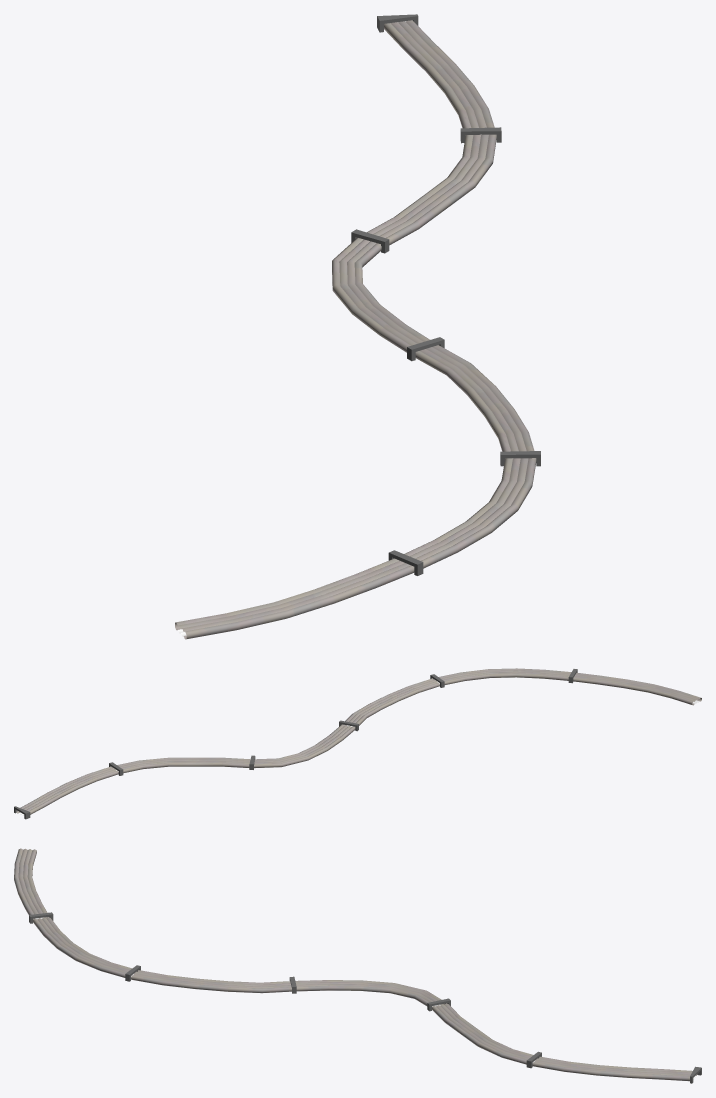
The model's file is Test_Rope2__5.fbx.
The picture shows the model from 3 angles, top to bottom: view 1: azimuth 30°, elevation 25°; view 2: azimuth 150°, elevation 25°; view 3: azimuth 270°, elevation 25°; orthographic projection. The views are drawn at different scales.
Parts seen in each view (by area): view 1: Mat_Tile_Color_07 1, Mat_Tile_Color_07 2, Mat_Tile_Color_07 3, Mat_Tile_Color_01 1; view 2: Mat_Tile_Color_07 1, Mat_Tile_Color_07 2, Mat_Tile_Color_07 3, Mat_Tile_Color_01 1; view 3: Mat_Tile_Color_07 1, Mat_Tile_Color_07 2, Mat_Tile_Color_07 3, Mat_Tile_Color_01 1.
Part boxes in pixels (x1,y1,x2,y2): Mat_Tile_Color_07 1: (175, 21, 528, 631); Mat_Tile_Color_07 2: (183, 20, 536, 639); Mat_Tile_Color_07 3: (179, 22, 520, 628); Mat_Tile_Color_01 1: (351, 14, 540, 575); Mat_Tile_Color_07 1: (23, 670, 697, 814); Mat_Tile_Color_07 2: (16, 668, 701, 813); Mat_Tile_Color_07 3: (26, 671, 695, 811); Mat_Tile_Color_01 1: (14, 669, 577, 819); Mat_Tile_Color_07 1: (18, 848, 697, 1076); Mat_Tile_Color_07 2: (14, 848, 689, 1081); Mat_Tile_Color_07 3: (23, 849, 691, 1074); Mat_Tile_Color_01 1: (29, 912, 701, 1083).
Bounding box in the file's own units: 13.18 × 0.1814 × 16.62.
5 materials, 5 textured.
